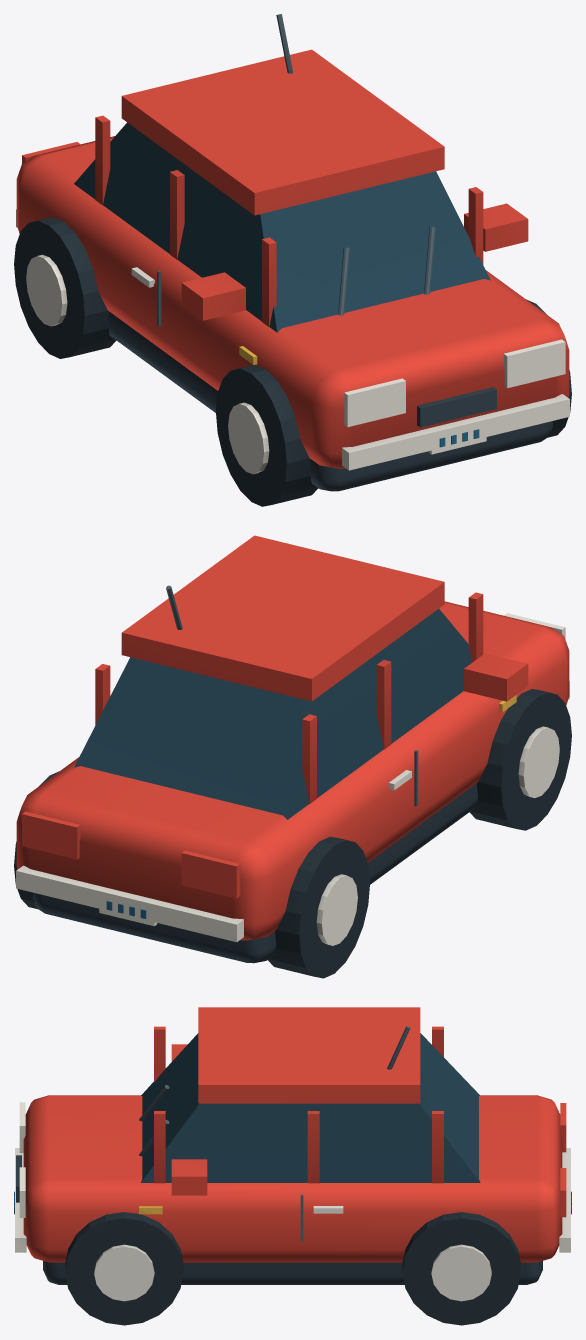
The model's file is car-coral.glb.
3 views of the same model, one above another, from view 1: azimuth 30°, elevation 25°; view 2: azimuth 150°, elevation 25°; view 3: azimuth 270°, elevation 25° (orthographic). The views are drawn at different scales.
Visible parts, largest first — view 1: body, glazed cabin, rubber tire, handle, chassis, windscreen wiper; view 2: body, glazed cabin, rubber tire, handle, chassis, windscreen wiper; view 3: body, glazed cabin, rubber tire, handle, chassis, windscreen wiper.
Boxes of the visible parts, x1,y1,x2,y2 form: body: (16,49,569,468); glazed cabin: (74,122,490,332); rubber tire: (14,217,571,506); handle: (16,209,569,474); chassis: (108,312,552,491); windscreen wiper: (157,14,435,326); body: (16,535,569,940); glazed cabin: (74,609,471,819); rubber tire: (14,689,571,978); handle: (16,613,569,945); chassis: (33,783,477,963); windscreen wiper: (166,585,418,806); body: (23,1007,566,1262); glazed cabin: (141,1033,480,1182); rubber tire: (65,1212,520,1325); handle: (15,1102,570,1301); chassis: (16,1155,542,1284); windscreen wiper: (139,1026,410,1241).
Size of the model in its own units: 1.06 by 0.983 by 1.89.
